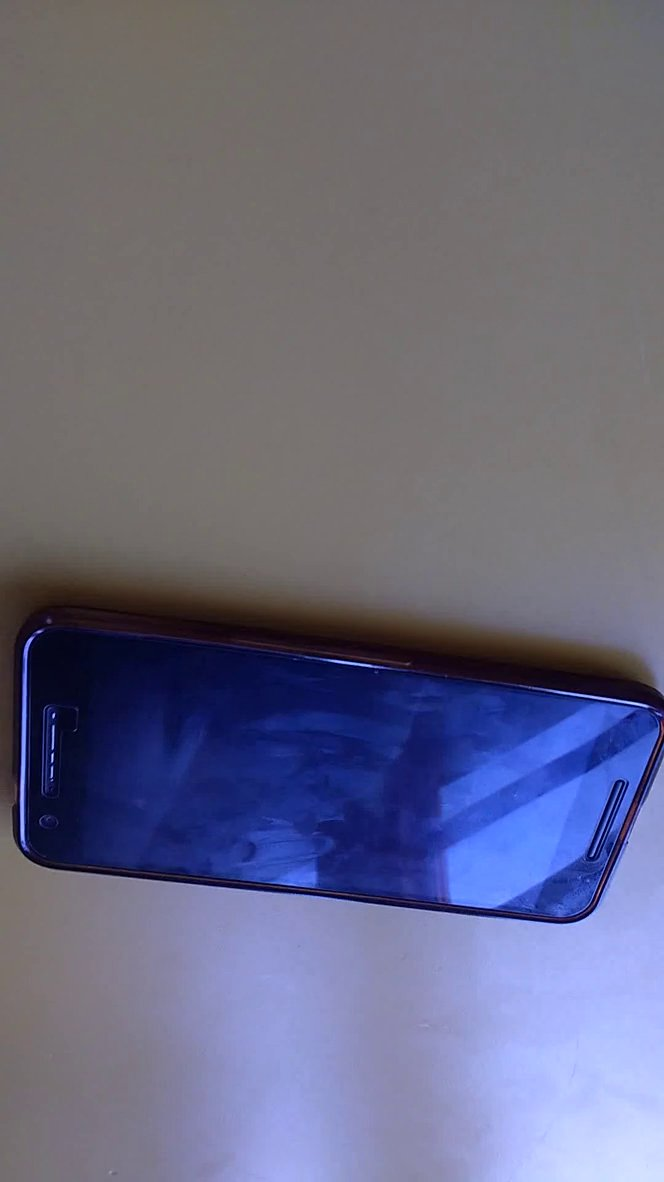phone: (1, 589, 664, 949)
